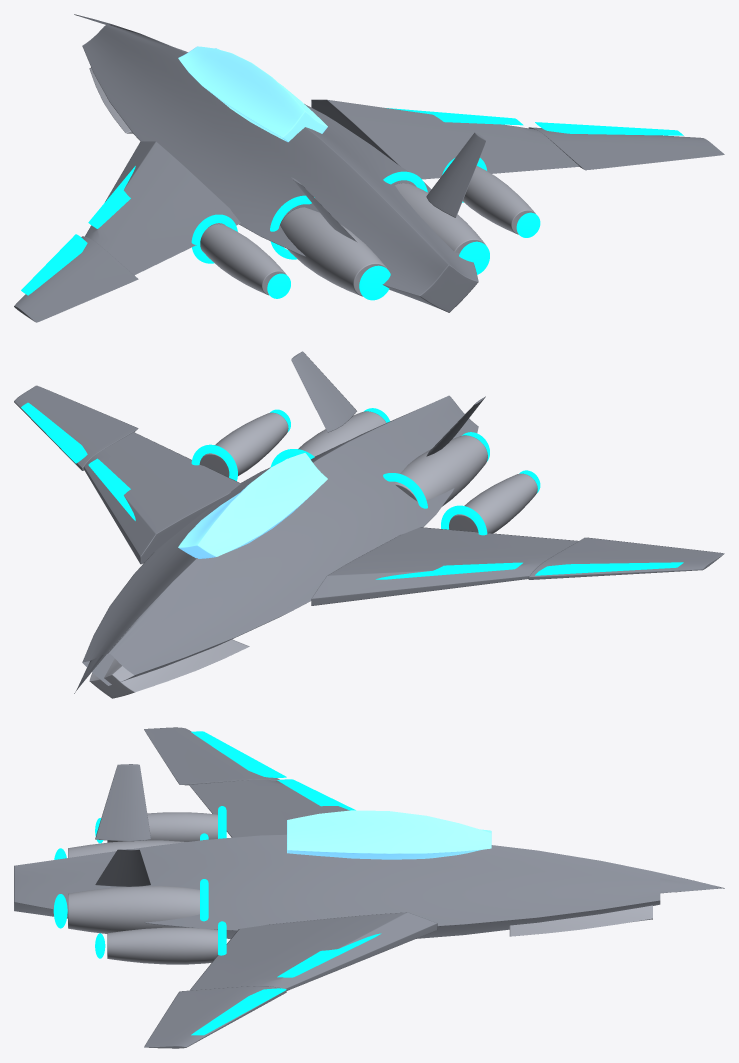
Rendered from ship_tier4_valkyrie.glb.
3 views of the same model, one above another, from view 1: azimuth 30°, elevation 25°; view 2: azimuth 150°, elevation 25°; view 3: azimuth 270°, elevation 25° (orthographic). The views are drawn at different scales.
Visible parts, largest first — view 1: Ship_Valkyrie; view 2: Ship_Valkyrie; view 3: Ship_Valkyrie.
Part boxes in pixels (x1,y1,x2,y2): Ship_Valkyrie: [14, 14, 724, 322]; Ship_Valkyrie: [14, 351, 724, 698]; Ship_Valkyrie: [14, 727, 724, 1048].
Bounding box in the file's own units: 2.1 × 0.418 × 1.98.
